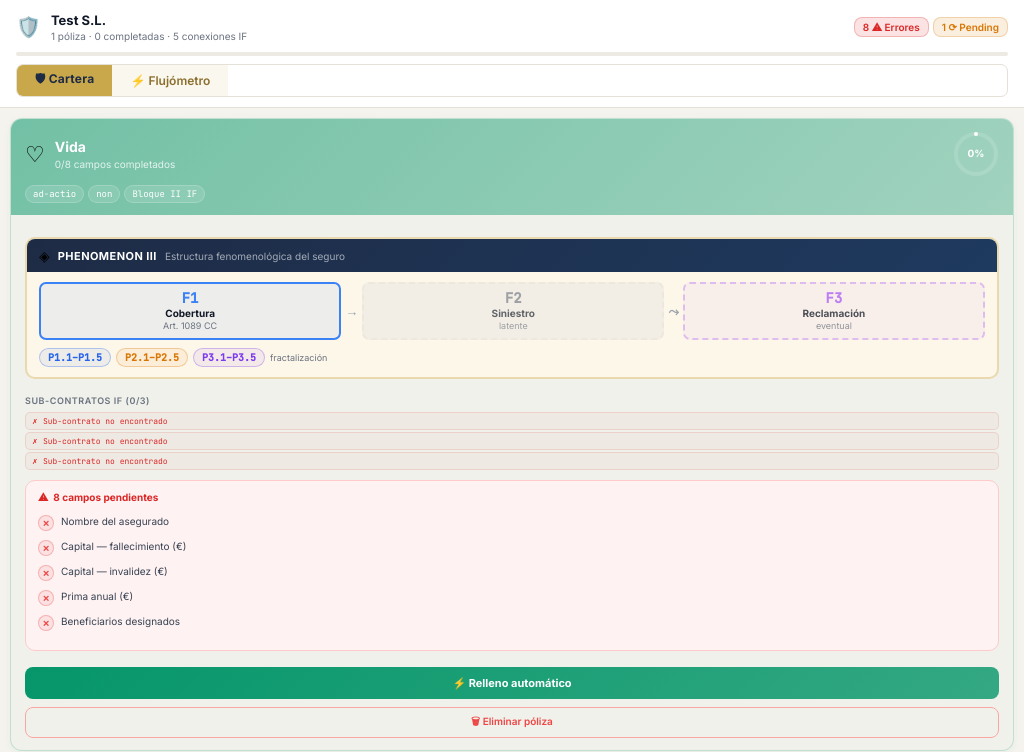
Test case: SegurosComparativeView — tab navigation › returns to cartera tab on 'Volver a Cartera' click
The image size is (1024, 752).
Click the button "⚡ Flujómetro" at (170, 80), box [112,65,228,96]
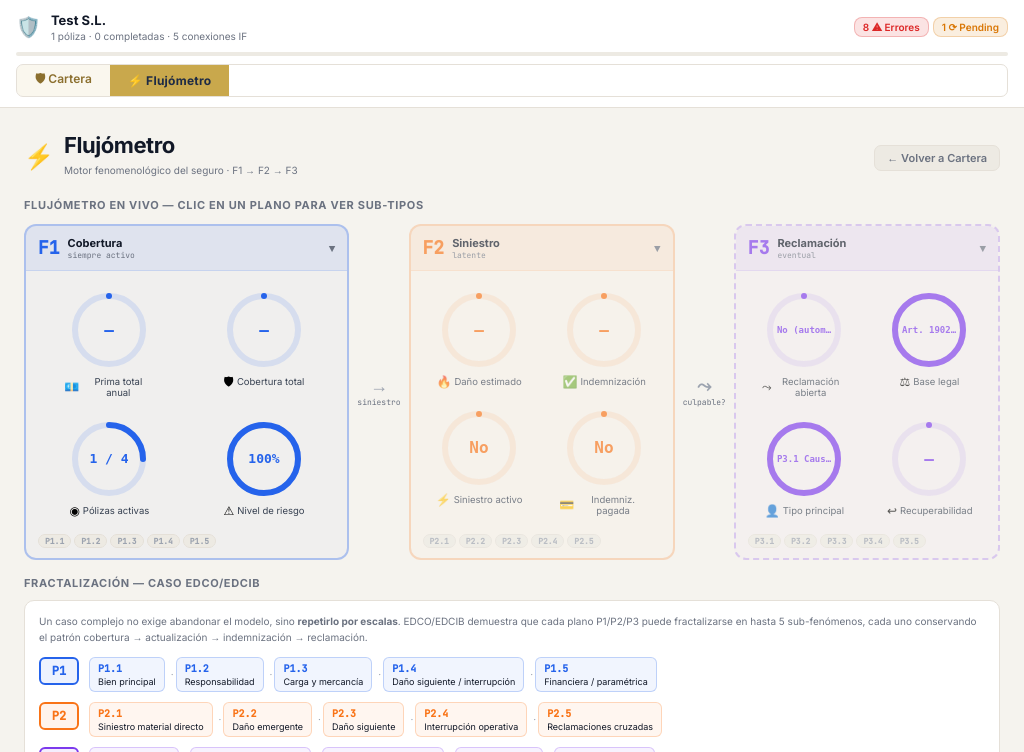
Check: the text "Motor fenomenológico del seguro · F1 → F2 → F3" is shown, box [64,164,298,176]
Click the button "← Volver a Cartera" at (937, 158), box [874,145,1000,171]
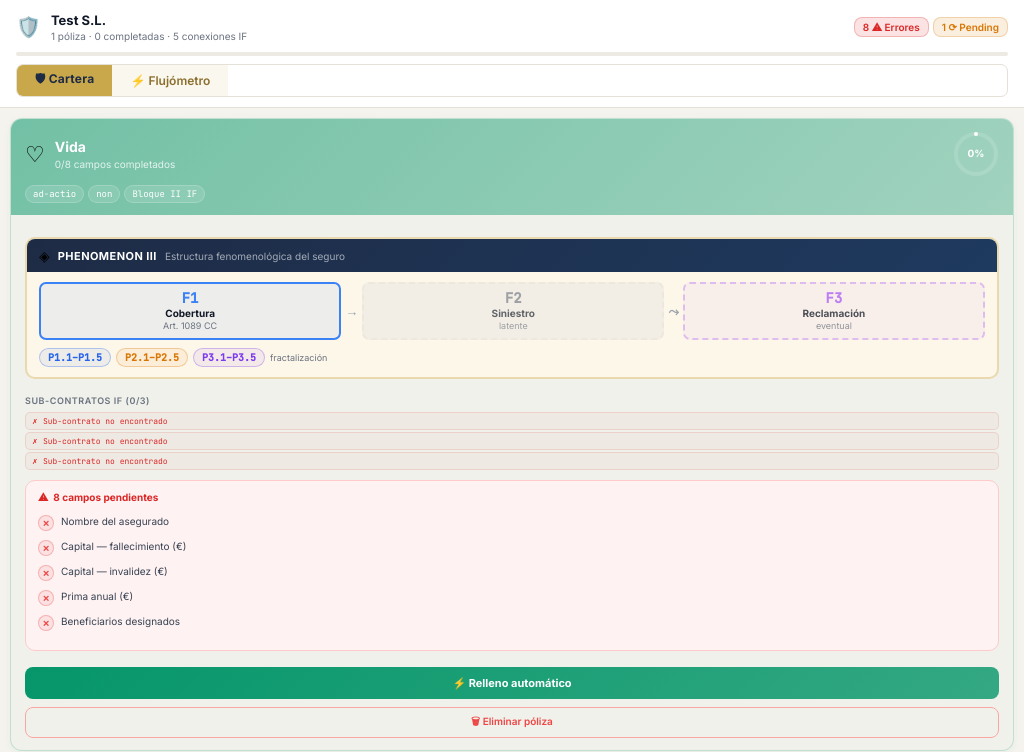
Check: the text "Motor fenomenológico del seguro" is gone
